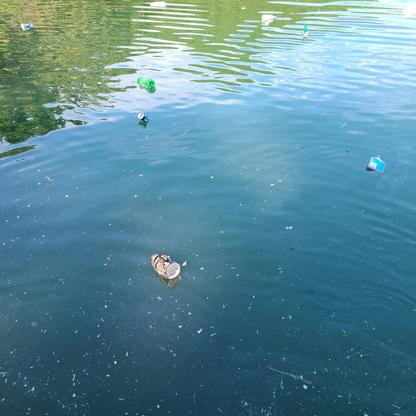can: (146, 251, 183, 278), (138, 111, 149, 123)
plastic bottle: (135, 75, 154, 88)
